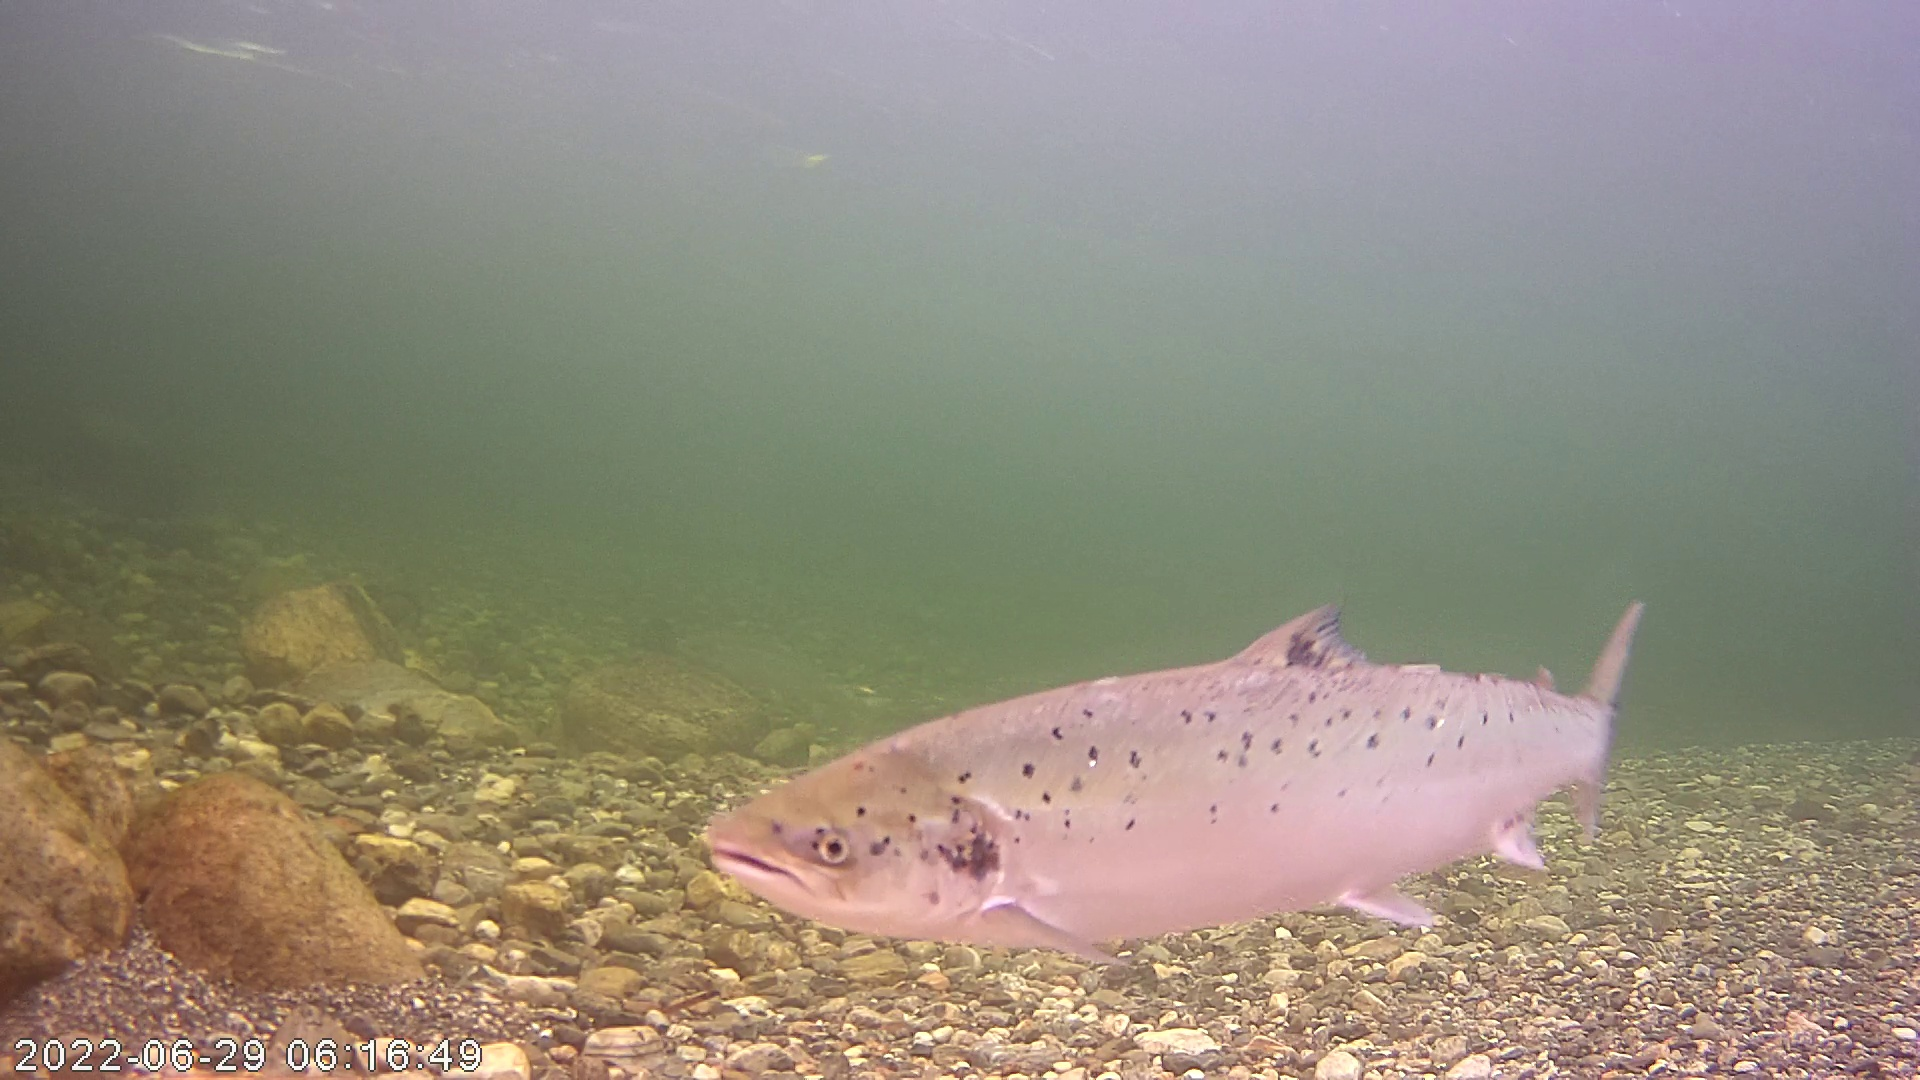salmon: (748, 514, 1636, 955)
